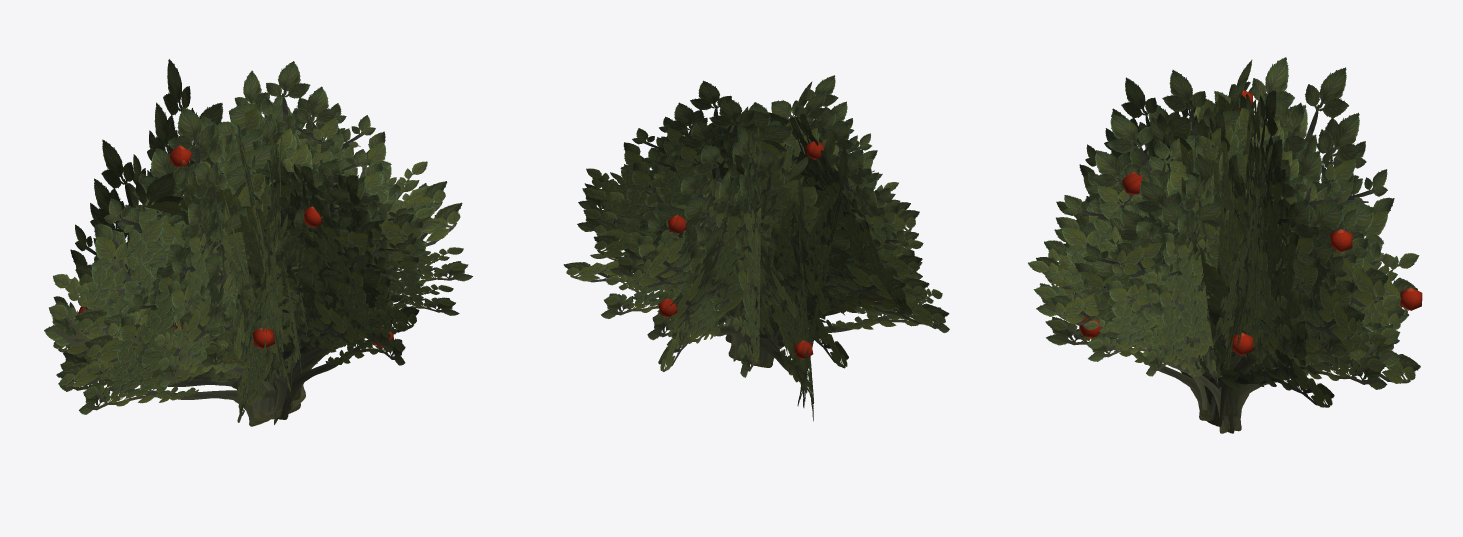
The model's file is shared_bush_berry_01.fbx.
The picture shows the model from 3 angles, left to right: view 1: azimuth 30°, elevation 25°; view 2: azimuth 150°, elevation 25°; view 3: azimuth 270°, elevation 25°; orthographic projection. The views are drawn at different scales.
Parts seen in each view (by area): view 1: shared_bush_berry_01; view 2: shared_bush_berry_01; view 3: shared_bush_berry_01.
Part boxes in pixels (box(x1,y1,x2,y2)): shared_bush_berry_01: box(44, 59, 472, 426); shared_bush_berry_01: box(563, 75, 949, 421); shared_bush_berry_01: box(1028, 57, 1422, 433).
Size of the model in its own units: 2.14 by 2.02 by 1.68.
